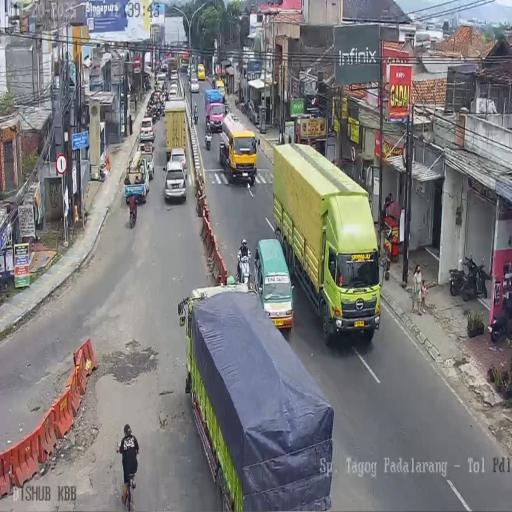car: (254, 239, 292, 332), (168, 147, 187, 182), (139, 118, 155, 144), (215, 79, 225, 100), (156, 72, 166, 90), (168, 84, 178, 99), (197, 64, 205, 80), (190, 79, 199, 93), (180, 58, 189, 72), (170, 70, 178, 83), (161, 61, 168, 73), (187, 65, 191, 76)
motorcycle: (449, 253, 490, 300), (490, 284, 512, 343), (151, 102, 162, 122), (204, 126, 212, 150), (240, 98, 248, 114), (144, 76, 150, 92), (224, 103, 230, 115), (194, 108, 198, 124), (211, 78, 216, 89)
truck: (181, 287, 330, 511), (275, 140, 378, 346), (136, 143, 154, 181)
